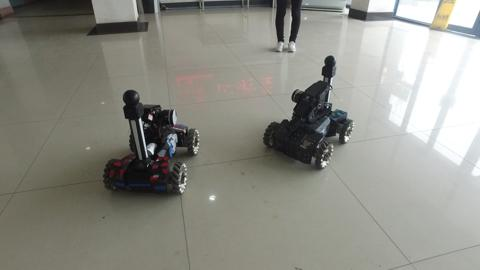chariot: (98, 86, 204, 207), (263, 52, 358, 174)
